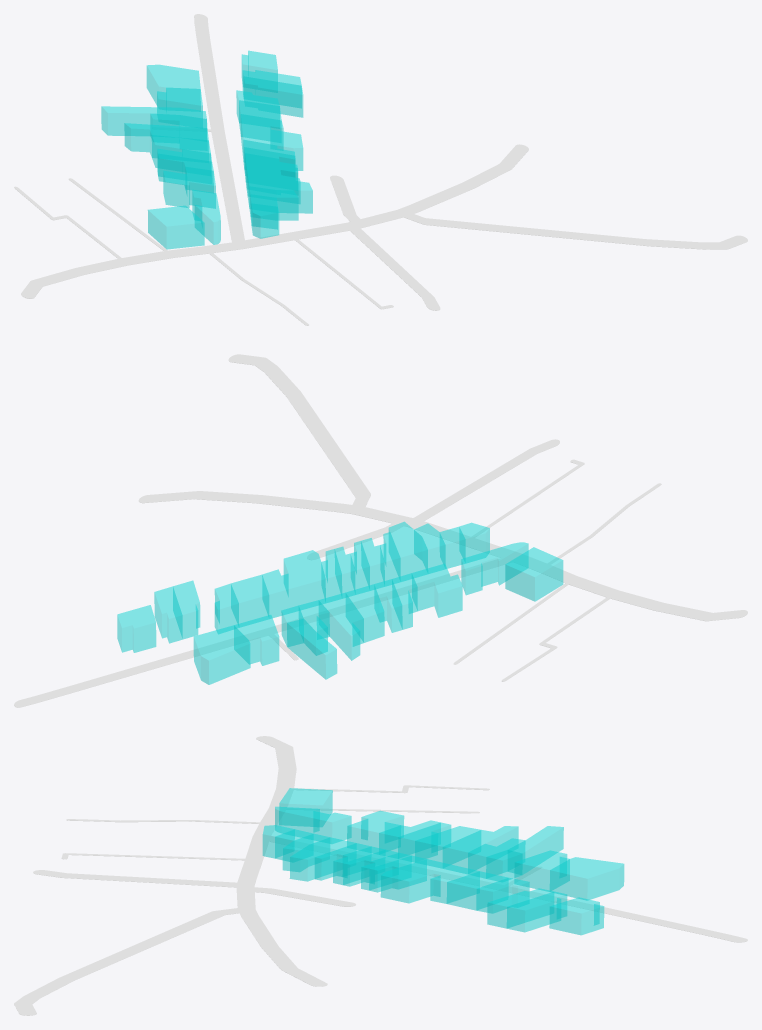
Rendered from lavant-test-old.gltf.
3 renders of one model, top to bottom at view 1: azimuth 30°, elevation 25°; view 2: azimuth 150°, elevation 25°; view 3: azimuth 270°, elevation 25°, orthographic. The views are drawn at different scales.
Parts seen in each view (by area): view 1: road-0, road-2, building-5, road-5, building-19, building-22, building-17, building-23, building-1, road-3, building-14, building-24 (+21 smaller); view 2: road-0, building-17, road-2, building-19, road-5, building-22, building-0, road-3, building-1, building-5, building-18, building-23 (+23 smaller); view 3: building-17, road-0, building-19, road-2, building-5, building-0, building-4, building-24, road-5, building-1, building-21, building-14 (+25 smaller).
Boxes of the visible parts, x1=… form: road-0: x1=194, y1=14, x2=245, y2=248; road-2: x1=395, y1=209, x2=747, y2=249; building-5: x1=124, y1=123, x2=208, y2=157; road-5: x1=21, y1=242, x2=244, y2=298; building-19: x1=146, y1=64, x2=200, y2=110; building-22: x1=148, y1=205, x2=204, y2=249; building-17: x1=240, y1=114, x2=303, y2=170; building-23: x1=101, y1=106, x2=179, y2=135; building-1: x1=163, y1=167, x2=215, y2=208; road-3: x1=371, y1=144, x2=528, y2=222; building-14: x1=247, y1=174, x2=312, y2=213; building-24: x1=243, y1=76, x2=303, y2=117; road-0: x1=14, y1=553, x2=521, y2=707; building-17: x1=262, y1=550, x2=325, y2=618; road-2: x1=228, y1=354, x2=370, y2=513; building-19: x1=193, y1=625, x2=250, y2=684; road-5: x1=509, y1=554, x2=747, y2=621; building-22: x1=505, y1=547, x2=563, y2=601; building-0: x1=461, y1=542, x2=528, y2=595; road-3: x1=138, y1=491, x2=391, y2=520; building-1: x1=412, y1=563, x2=462, y2=617; building-5: x1=319, y1=592, x2=363, y2=660; building-18: x1=234, y1=615, x2=279, y2=665; building-23: x1=287, y1=618, x2=337, y2=679; building-17: x1=380, y1=859, x2=479, y2=903; road-0: x1=253, y1=834, x2=747, y2=942; building-19: x1=549, y1=857, x2=624, y2=900; road-2: x1=14, y1=907, x2=255, y2=1015; building-5: x1=442, y1=826, x2=518, y2=873; building-0: x1=275, y1=806, x2=351, y2=843; building-4: x1=415, y1=826, x2=480, y2=867; building-24: x1=487, y1=888, x2=553, y2=928; road-5: x1=253, y1=736, x2=296, y2=836; building-1: x1=347, y1=810, x2=404, y2=853; building-21: x1=446, y1=871, x2=508, y2=910; building-14: x1=289, y1=837, x2=356, y2=881.
Size of the model in its own units: 27.53 by 1.22 by 30.3.
